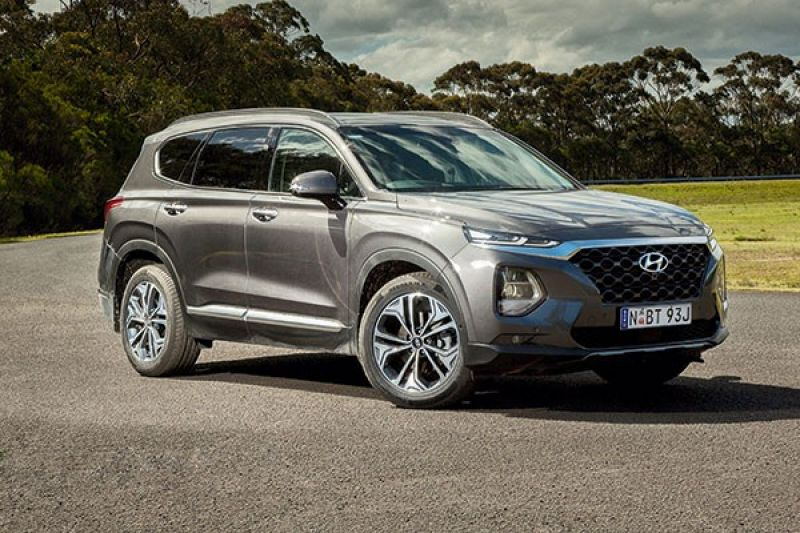car: (97, 107, 729, 411)
